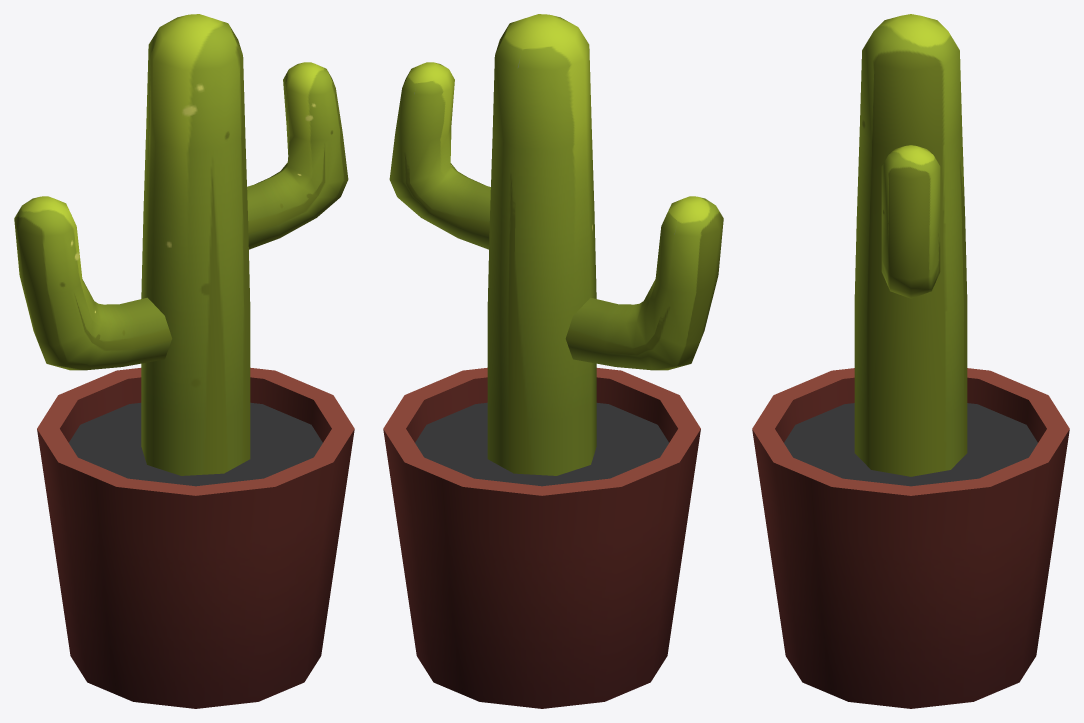
The model's file is Vase_Cactus.fbx.
3 renders of one model, left to right at view 1: azimuth 30°, elevation 25°; view 2: azimuth 150°, elevation 25°; view 3: azimuth 270°, elevation 25°, orthographic.
Visible parts, largest first — view 1: Vase, Cactus; view 2: Vase, Cactus; view 3: Vase, Cactus.
Part boxes in pixels (bbox=[...]): Vase: bbox=[37, 367, 354, 708]; Cactus: bbox=[14, 14, 348, 475]; Vase: bbox=[383, 367, 700, 708]; Cactus: bbox=[389, 14, 723, 475]; Vase: bbox=[752, 368, 1069, 708]; Cactus: bbox=[854, 14, 967, 476].
Bounding box in the file's own units: 99.12 × 185 × 83.81.
